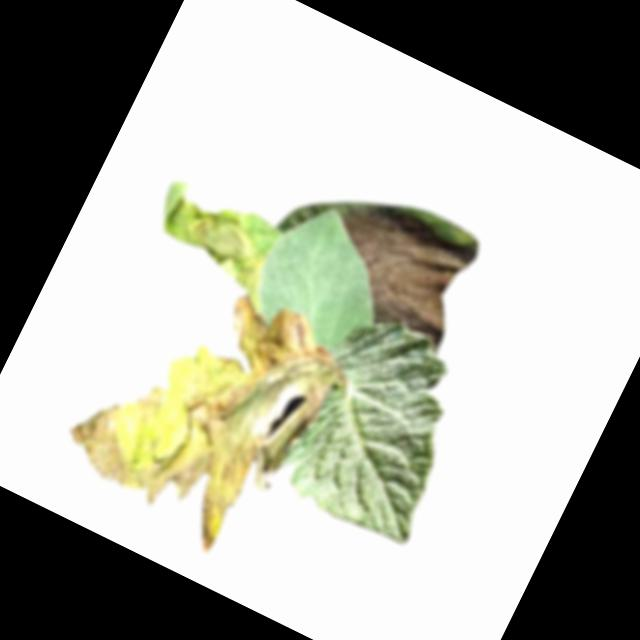Late_blight: (48, 245, 357, 571), (303, 185, 489, 355), (135, 172, 298, 314)
healthy: (269, 304, 492, 551), (244, 194, 411, 361)
